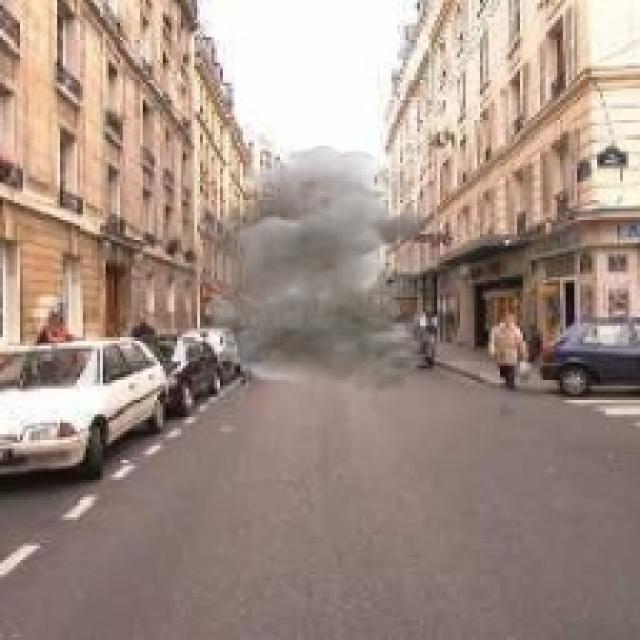smoke: (174, 146, 434, 394)
